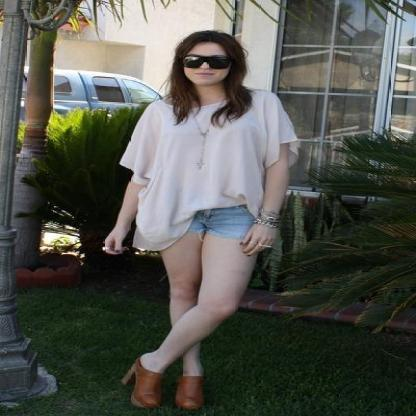shirt: (120, 84, 300, 251)
shoe: (122, 360, 200, 408)
shorts: (168, 204, 257, 238)
sunglass: (187, 56, 223, 68)
